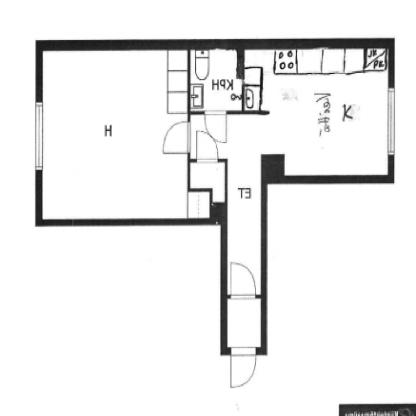door: (228, 343, 258, 395), (228, 256, 257, 304), (159, 118, 191, 158), (204, 108, 229, 147), (195, 132, 218, 165)
window: (386, 88, 394, 156), (36, 103, 42, 172)
zone: (188, 50, 390, 296), (43, 49, 188, 221), (190, 46, 244, 112), (188, 158, 227, 203), (226, 300, 262, 347), (188, 192, 211, 222)
